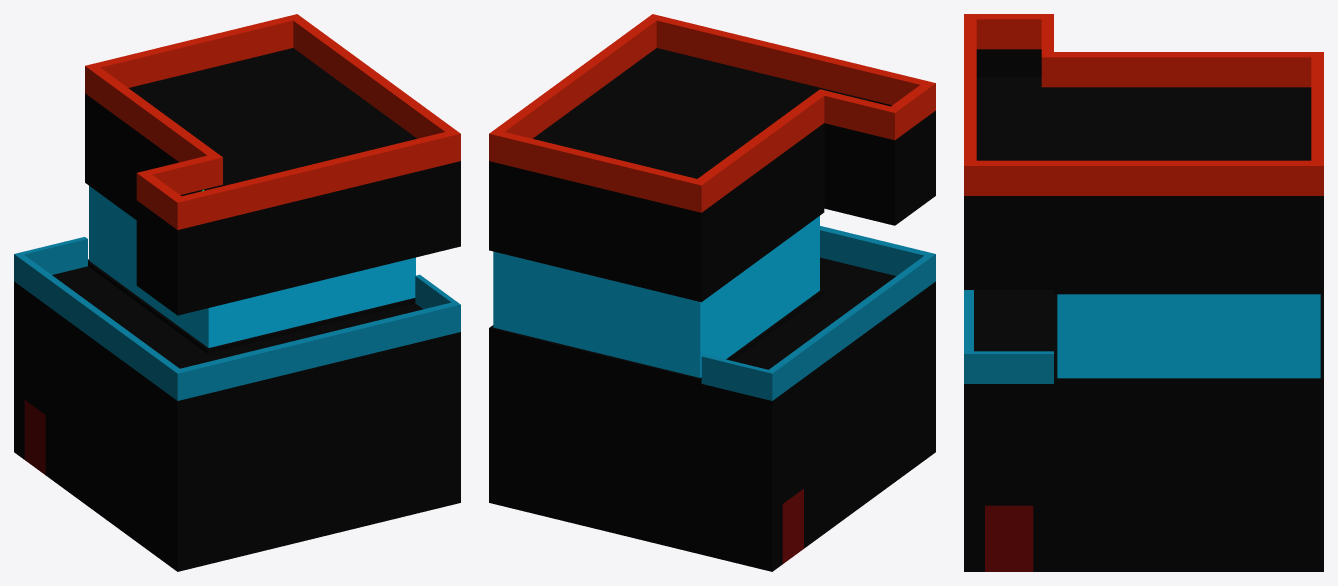
File: Building_Appartment_With_Penthouse.fbx
3 renders of one model, left to right at view 1: azimuth 30°, elevation 25°; view 2: azimuth 150°, elevation 25°; view 3: azimuth 270°, elevation 25°, orthographic. The views are drawn at different scales.
Parts seen in each view (by area): view 1: Building_Appartment_With_Penthouse; view 2: Building_Appartment_With_Penthouse; view 3: Building_Appartment_With_Penthouse.
Part boxes in pixels (x1,y1,x2,y2): Building_Appartment_With_Penthouse: (14,14,460,571); Building_Appartment_With_Penthouse: (489,14,935,571); Building_Appartment_With_Penthouse: (964,14,1323,571).
Size of the model in its own units: 434 by 540 by 434.
